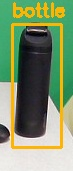bottle: (12, 24, 61, 147)
